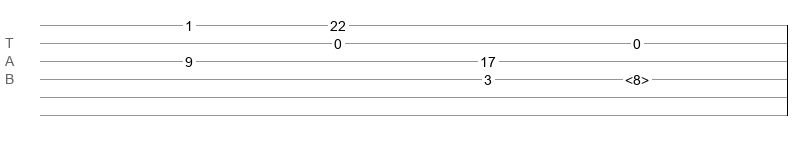0: (334, 36, 342, 46), (633, 36, 641, 46)
1: (185, 18, 193, 28)
17: (480, 54, 496, 64)
22: (330, 18, 346, 28)
3: (484, 72, 492, 82)
9: (185, 54, 193, 64)
harmonic: (625, 72, 649, 82)
